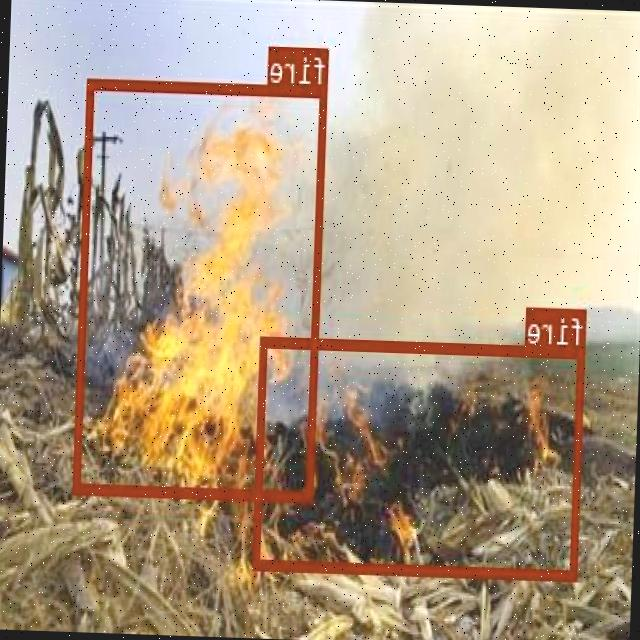fire: (74, 78, 328, 500), (254, 334, 586, 580)
